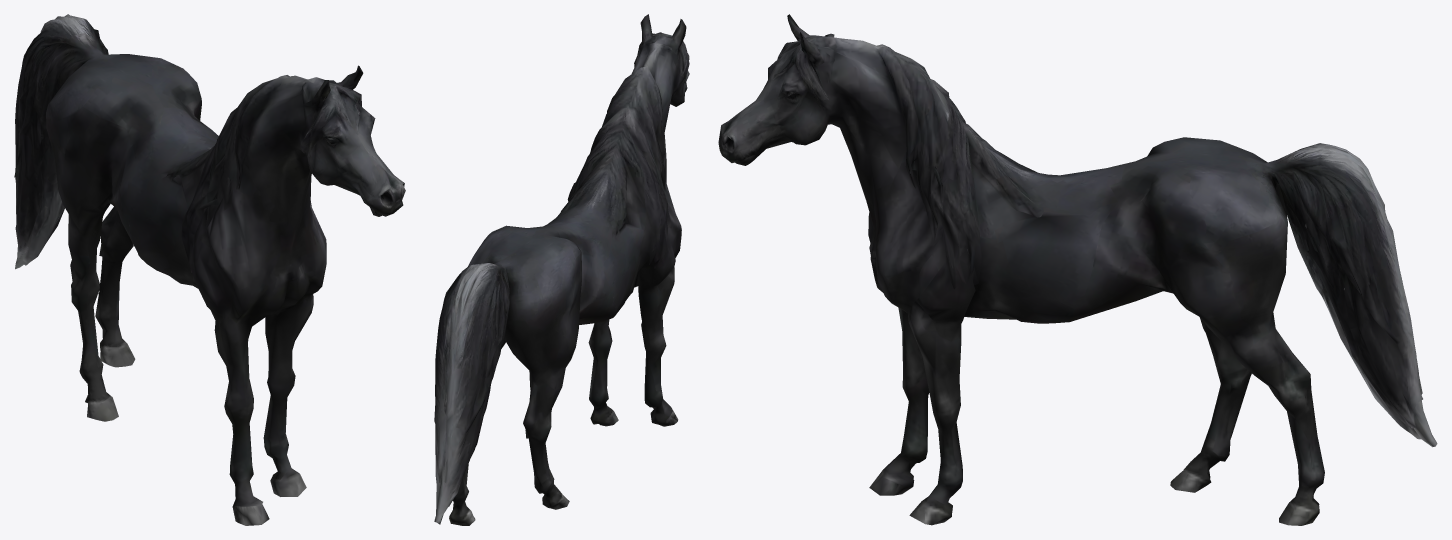
The model's file is animal_horse_black.glb.
The picture shows the model from 3 angles, left to right: view 1: azimuth 30°, elevation 25°; view 2: azimuth 150°, elevation 25°; view 3: azimuth 270°, elevation 25°; orthographic projection. The views are drawn at different scales.
Parts seen in each view (by area): view 1: tripo_node_78447a66-341f-44b4-8a78-87468e85393e; view 2: tripo_node_78447a66-341f-44b4-8a78-87468e85393e; view 3: tripo_node_78447a66-341f-44b4-8a78-87468e85393e.
Boxes of the visible parts, x1,y1,x2,y2 form: tripo_node_78447a66-341f-44b4-8a78-87468e85393e: [14, 14, 405, 525]; tripo_node_78447a66-341f-44b4-8a78-87468e85393e: [434, 14, 689, 525]; tripo_node_78447a66-341f-44b4-8a78-87468e85393e: [718, 14, 1437, 525].
Size of the model in its own units: 0.2037 by 0.7352 by 0.9763.
1 material, 1 textured.
